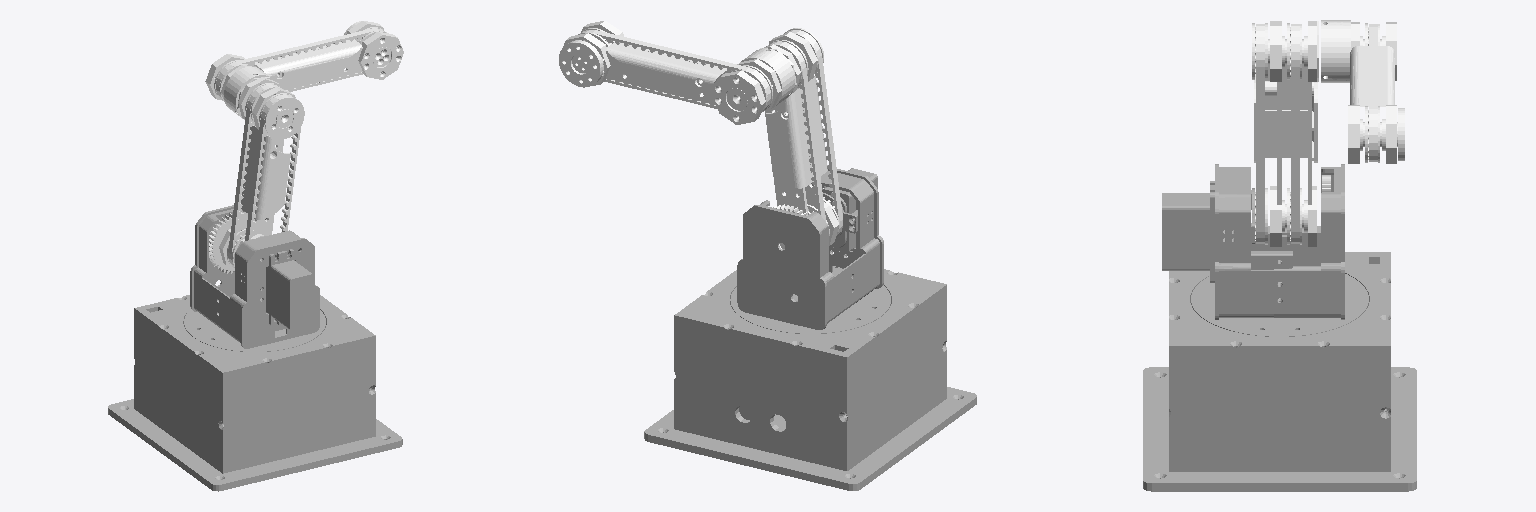
robot.urdf — ats_arm02:
<!-- -->
<robot
  name="ats_arm02">
  <link
    name="base_link">
    <inertial>
      <origin
        xyz="0.0011197 0.00011414 0.036358"
        rpy="0 0 0" />
      <mass
        value="0.40763" />
      <inertia
        ixx="0.00060198"
        ixy="4.5316E-06"
        ixz="-3.9335E-06"
        iyy="0.00063858"
        iyz="1.7944E-06"
        izz="0.00068799" />
    </inertial>
    <visual>
      <origin
        xyz="0 0 0"
        rpy="0 0 0" />
      <geometry>
        <mesh
          filename="package://ats_arm02/meshes/base_link.STL" />
      </geometry>
      <material
        name="">
        <color
          rgba="0.75294 0.75294 0.75294 1" />
      </material>
    </visual>
    <collision>
      <origin
        xyz="0 0 0"
        rpy="0 0 0" />
      <geometry>
        <mesh
          filename="package://ats_arm02/meshes/base_link.STL" />
      </geometry>
    </collision>
  </link>
  <link
    name="spin_Link">
    <inertial>
      <origin
        xyz="0.00033672 -0.012896 0.026428"
        rpy="0 0 0" />
      <mass
        value="0.12276" />
      <inertia
        ixx="0.00011585"
        ixy="3.7936E-07"
        ixz="-1.4901E-07"
        iyy="3.9058E-05"
        iyz="3.0401E-05"
        izz="7.8372E-05" />
    </inertial>
    <visual>
      <origin
        xyz="0 0 0"
        rpy="0 0 0" />
      <geometry>
        <mesh
          filename="package://ats_arm02/meshes/spin_Link.STL" />
      </geometry>
      <material
        name="">
        <color
          rgba="0.75294 0.75294 0.75294 1" />
      </material>
    </visual>
    <collision>
      <origin
        xyz="0 0 0"
        rpy="0 0 0" />
      <geometry>
        <mesh
          filename="package://ats_arm02/meshes/spin_Link.STL" />
      </geometry>
    </collision>
  </link>
  <joint
    name="base_spin_joint"
    type="revolute">
    <origin
      xyz="0 0 0.0781"
      rpy="0 0 0" />
    <parent
      link="base_link" />
    <child
      link="spin_Link" />
    <axis
      xyz="0 0 1" />
    <limit
      lower="-1.57"
      upper="1.57"
      effort="0"
      velocity="0" />
  </joint>
  <link
    name="first_swing_Link">
    <inertial>
      <origin
        xyz="0.0065409 0.020013 0.051428"
        rpy="0 0 0" />
      <mass
        value="0.065395" />
      <inertia
        ixx="0.0001026"
        ixy="1.4636E-06"
        ixz="-1.2408E-05"
        iyy="9.4607E-05"
        iyz="1.1923E-05"
        izz="1.1966E-05" />
    </inertial>
    <visual>
      <origin
        xyz="0 0 0"
        rpy="0 0 0" />
      <geometry>
        <mesh
          filename="package://ats_arm02/meshes/first_swing_Link.STL" />
      </geometry>
      <material
        name="">
        <color
          rgba="1 1 1 1" />
      </material>
    </visual>
    <collision>
      <origin
        xyz="0 0 0"
        rpy="0 0 0" />
      <geometry>
        <mesh
          filename="package://ats_arm02/meshes/first_swing_Link.STL" />
      </geometry>
    </collision>
  </link>
  <joint
    name="spin_first_swing_joint"
    type="revolute">
    <origin
      xyz="0 -0.0141 0.056068"
      rpy="0 0 0" />
    <parent
      link="spin_Link" />
    <child
      link="first_swing_Link" />
    <axis
      xyz="0 1 0" />
    <limit
      lower="-1.57"
      upper="1.57"
      effort="0"
      velocity="0" />
  </joint>
  <link
    name="second_swing_Link">
    <inertial>
      <origin
        xyz="0.052475 0.03012 0.0007592"
        rpy="0 0 0" />
      <mass
        value="0.055077" />
      <inertia
        ixx="6.457E-06"
        ixy="-7.9461E-06"
        ixz="2.565E-08"
        iyy="8.2291E-05"
        iyz="-4.9301E-08"
        izz="8.7794E-05" />
    </inertial>
    <visual>
      <origin
        xyz="0 0 0"
        rpy="0 0 0" />
      <geometry>
        <mesh
          filename="package://ats_arm02/meshes/second_swing_Link.STL" />
      </geometry>
      <material
        name="">
        <color
          rgba="1 1 1 1" />
      </material>
    </visual>
    <collision>
      <origin
        xyz="0 0 0"
        rpy="0 0 0" />
      <geometry>
        <mesh
          filename="package://ats_arm02/meshes/second_swing_Link.STL" />
      </geometry>
    </collision>
  </link>
  <joint
    name="first_second_swing_joint"
    type="revolute">
    <origin
      xyz="0.015213 0.0347 0.10894"
      rpy="0 0 0" />
    <parent
      link="first_swing_Link" />
    <child
      link="second_swing_Link" />
    <axis
      xyz="0 1 0" />
    <limit
      lower="-1.57"
      upper="1.57"
      effort="0"
      velocity="0" />
  </joint>
</robot>

--- Facts derived from the render (not from the file) ---
Views: 3 orthographic renders of the robot side by side, from view 1: azimuth 30°, elevation 25°; view 2: azimuth 150°, elevation 25°; view 3: azimuth 270°, elevation 25°.
Model ats_arm02 with 4 links and 3 joints (3 revolute), rooted at base_link, posed every joint at zero.
Visible links, largest first — view 1: base_link, spin_Link, first_swing_Link, second_swing_Link; view 2: base_link, spin_Link, second_swing_Link, first_swing_Link; view 3: base_link, spin_Link, first_swing_Link, second_swing_Link.
Link boxes in pixels (x1,y1,x2,y2): base_link: (108,295,402,491); spin_Link: (184,205,325,351); first_swing_Link: (209,77,304,273); second_swing_Link: (205,21,403,119); base_link: (644,266,976,490); spin_Link: (730,168,890,333); second_swing_Link: (559,21,796,124); first_swing_Link: (764,28,842,248); base_link: (1143,252,1416,491); spin_Link: (1162,164,1368,336); first_swing_Link: (1252,21,1330,246); second_swing_Link: (1317,20,1404,163).
Bounding box of the posed robot: 0.2197 × 0.154 × 0.2607 m (x, y, z).
4 mesh visuals loaded from 4 distinct referenced files (4 binary STL).
